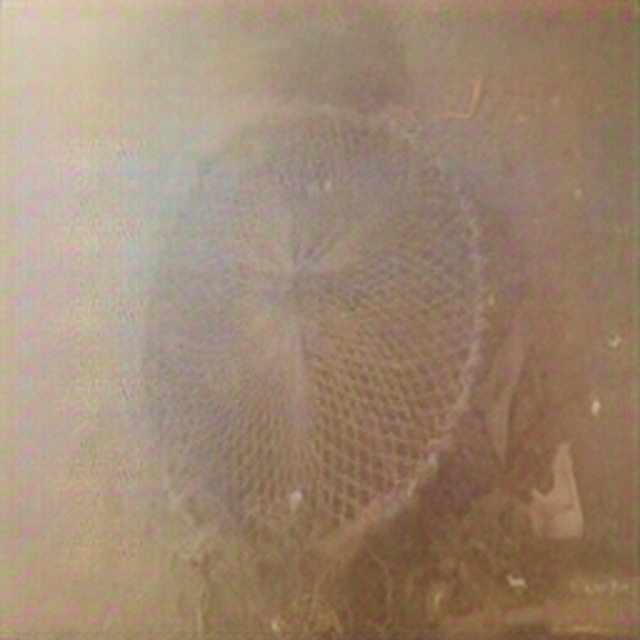mine: (129, 97, 492, 576)
